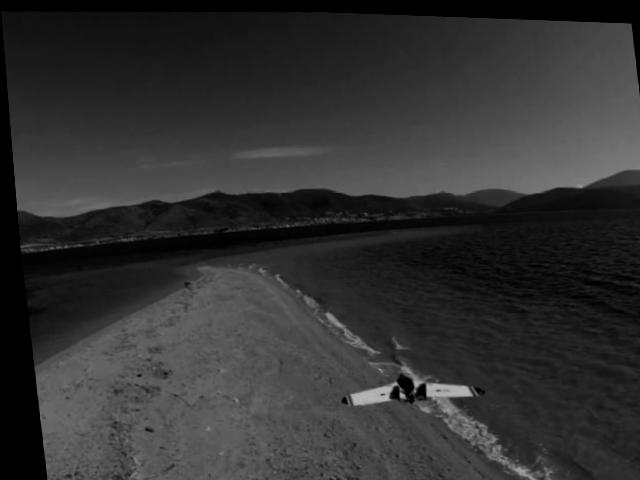hedef: (322, 351, 490, 437)
